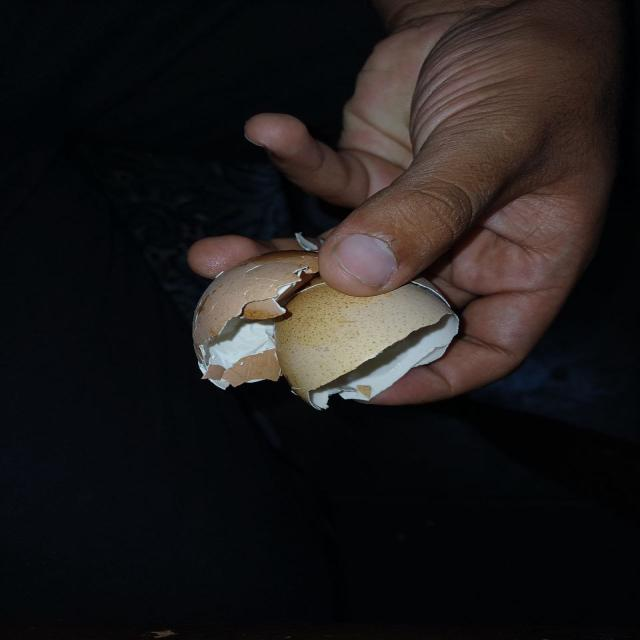organic: (193, 246, 461, 407)
